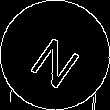N_NE: (24, 23, 86, 87)
